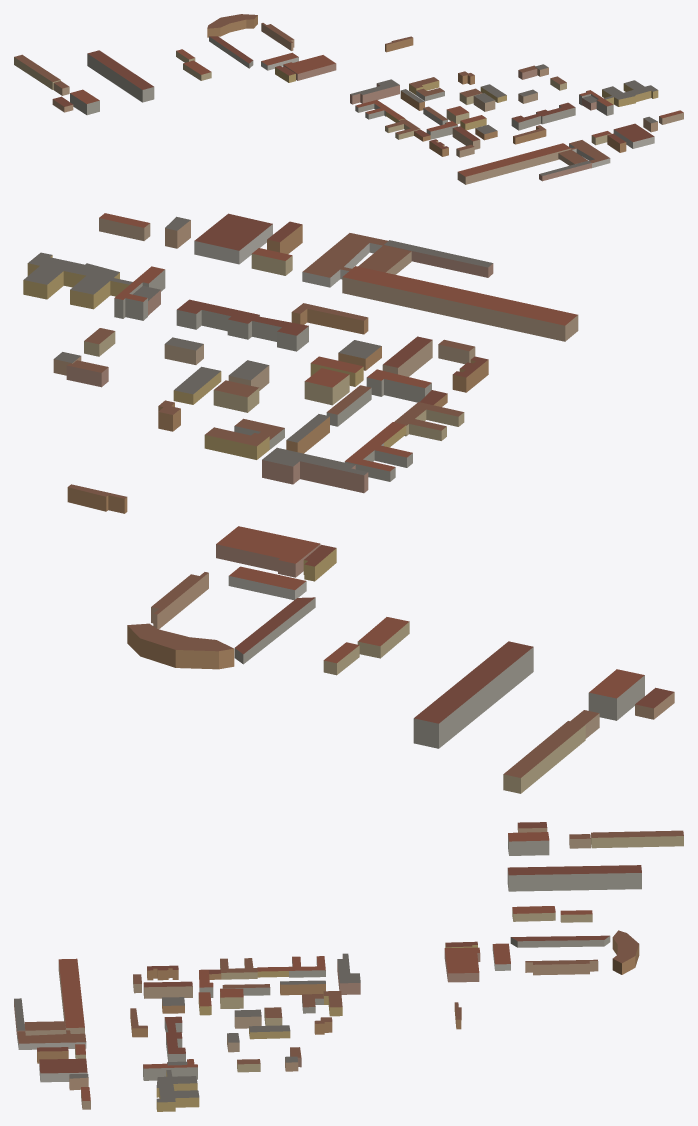
The model's file is SM_Fondale_Citta_O_02_LOD1.fbx.
The picture shows the model from 3 angles, top to bottom: view 1: azimuth 30°, elevation 25°; view 2: azimuth 150°, elevation 25°; view 3: azimuth 270°, elevation 25°; orthographic projection. The views are drawn at different scales.
Visible parts, largest first — view 1: SM_Fondale_Citta_O_02_LOD1; view 2: SM_Fondale_Citta_O_02_LOD1; view 3: SM_Fondale_Citta_O_02_LOD1.
Part boxes in pixels (box(x1,y1,x2,y2)): SM_Fondale_Citta_O_02_LOD1: box(14, 14, 683, 184); SM_Fondale_Citta_O_02_LOD1: box(23, 213, 674, 793); SM_Fondale_Citta_O_02_LOD1: box(14, 822, 683, 1111).
Size of the model in its own units: 83099 by 81255 by 3414.
